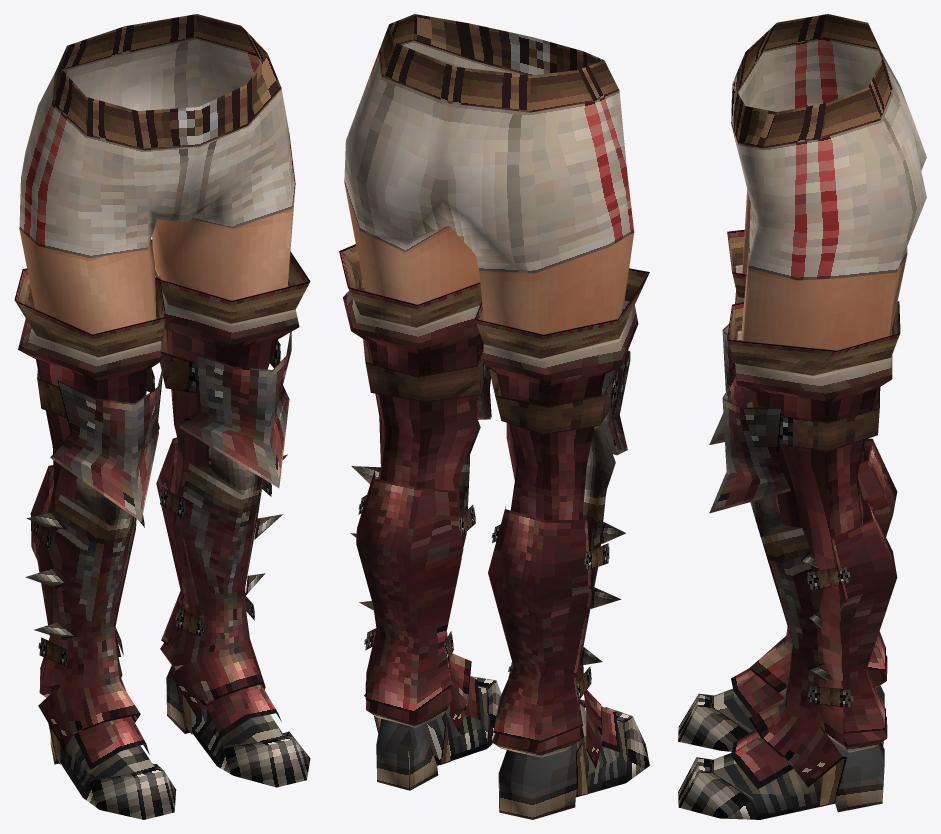
Rendered from f_reg176.glb.
3 renders of one model, left to right at view 1: azimuth 30°, elevation 25°; view 2: azimuth 150°, elevation 25°; view 3: azimuth 270°, elevation 25°, orthographic. The views are drawn at different scales.
Size of the model in its own units: 43.57 by 110 by 34.8.
Materials: 2 (2 with a texture image).
